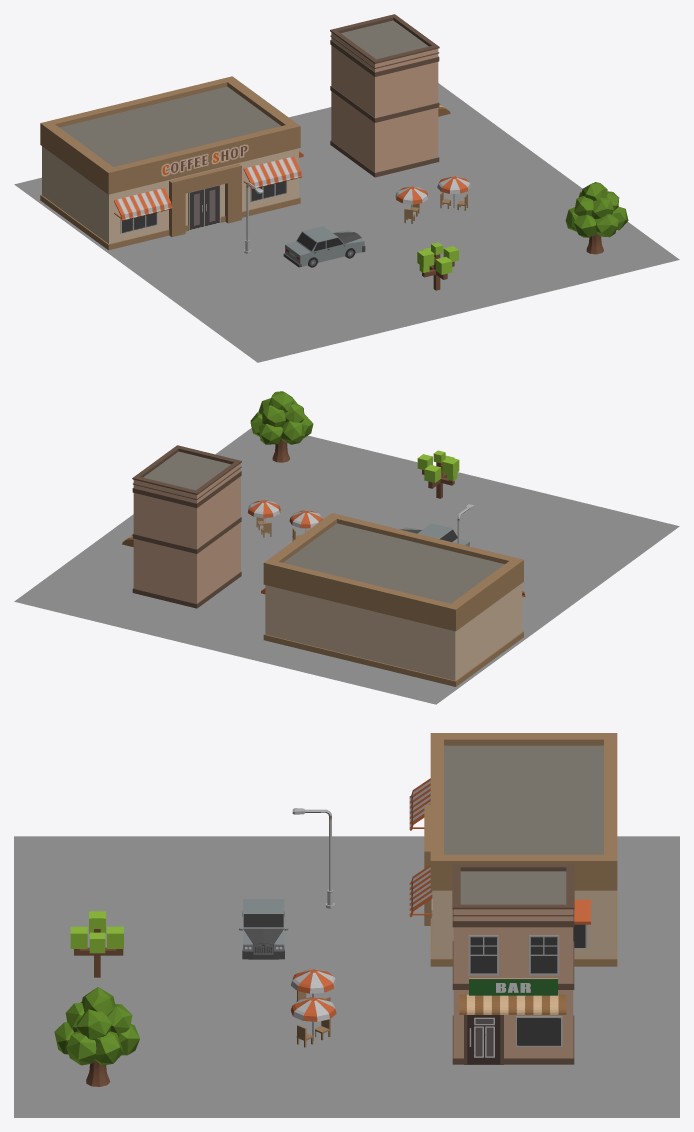
Rendered from remix-commercial-cafes.glb.
The picture shows the model from 3 angles, top to bottom: view 1: azimuth 30°, elevation 25°; view 2: azimuth 150°, elevation 25°; view 3: azimuth 270°, elevation 25°; orthographic projection. The views are drawn at different scales.
Visible parts, largest first — view 1: Road Concrete Tile_Plane.010, Building_Coffee Shop_Cube.010, Building_Bar_Cube.002, Natures_Big Tree_Mesh.008, Vehicle_Car_Cube.050, Props_Coffee shop chair_Cylinder.018 (×2), Natures_Cube Tree_Cube.017; view 2: Road Concrete Tile_Plane.010, Building_Coffee Shop_Cube.010, Building_Bar_Cube.002, Natures_Big Tree_Mesh.008, Natures_Cube Tree_Cube.017, Props_Coffee shop chair_Cylinder.018 (×2), Vehicle_Car_Cube.050; view 3: Road Concrete Tile_Plane.010, Building_Coffee Shop_Cube.010, Building_Bar_Cube.002, Natures_Big Tree_Mesh.008, Vehicle_Car_Cube.050, Props_Coffee shop chair_Cylinder.018 (×2), Natures_Cube Tree_Cube.017.
Part boxes in pixels (<box>): Road Concrete Tile_Plane.010: <box>14,83,679,362</box>; Building_Coffee Shop_Cube.010: <box>40,76,303,250</box>; Building_Bar_Cube.002: <box>330,14,450,177</box>; Natures_Big Tree_Mesh.008: <box>565,182,628,254</box>; Vehicle_Car_Cube.050: <box>283,226,365,267</box>; Props_Coffee shop chair_Cylinder.018 (×2): <box>395,176,470,223</box>; Natures_Cube Tree_Cube.017: <box>417,242,458,290</box>; Road Concrete Tile_Plane.010: <box>14,428,679,704</box>; Building_Coffee Shop_Cube.010: <box>261,513,525,686</box>; Building_Bar_Cube.002: <box>122,445,241,608</box>; Natures_Big Tree_Mesh.008: <box>250,391,313,462</box>; Natures_Cube Tree_Cube.017: <box>417,450,459,498</box>; Props_Coffee shop chair_Cylinder.018 (×2): <box>248,500,322,541</box>; Vehicle_Car_Cube.050: <box>400,523,469,546</box>; Road Concrete Tile_Plane.010: <box>14,836,679,1117</box>; Building_Coffee Shop_Cube.010: <box>409,733,617,966</box>; Building_Bar_Cube.002: <box>452,864,574,1064</box>; Natures_Big Tree_Mesh.008: <box>54,987,139,1086</box>; Vehicle_Car_Cube.050: <box>239,899,288,959</box>; Props_Coffee shop chair_Cylinder.018 (×2): <box>290,969,336,1047</box>; Natures_Cube Tree_Cube.017: <box>70,911,123,977</box>.
Bounding box in the file's own units: 40 × 10.41 × 40.
6 materials, 6 textured.
